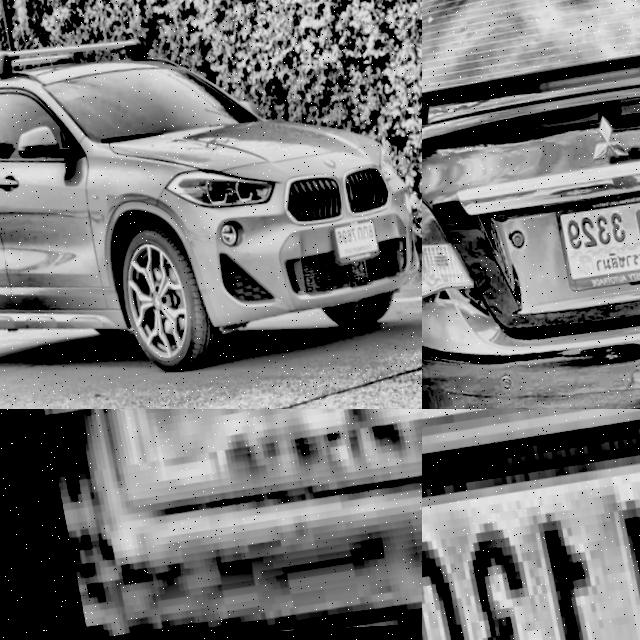license-plate: (21, 409, 422, 601), (422, 409, 640, 640), (541, 185, 640, 296), (315, 211, 380, 275)
